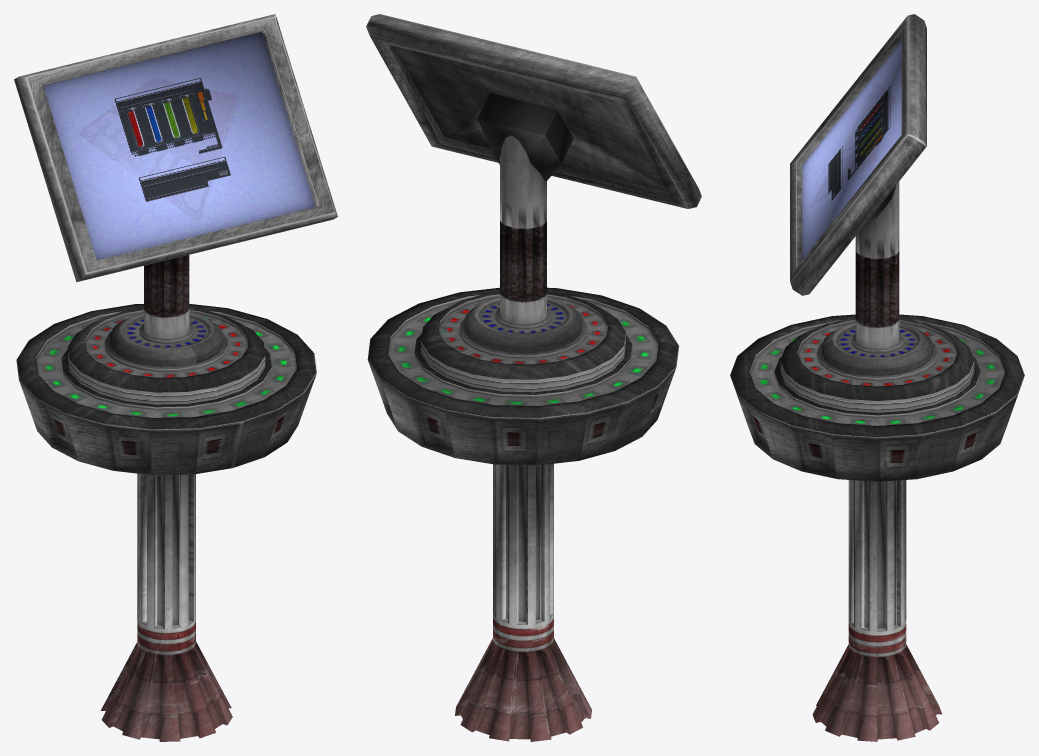
Rendered from chemlab.glb.
The picture shows the model from 3 angles, left to right: view 1: azimuth 30°, elevation 25°; view 2: azimuth 150°, elevation 25°; view 3: azimuth 270°, elevation 25°; orthographic projection. The views are drawn at different scales.
Visible parts, largest first — view 1: polySurface2; view 2: polySurface2; view 3: polySurface2.
Boxes of the visible parts, x1=… form: polySurface2: x1=14, y1=14, x2=337, y2=741; polySurface2: x1=366, y1=14, x2=701, y2=741; polySurface2: x1=730, y1=14, x2=1024, y2=741.
Bounding box in the file's own units: 27.59 × 66.03 × 27.59.
1 material, 1 textured.
